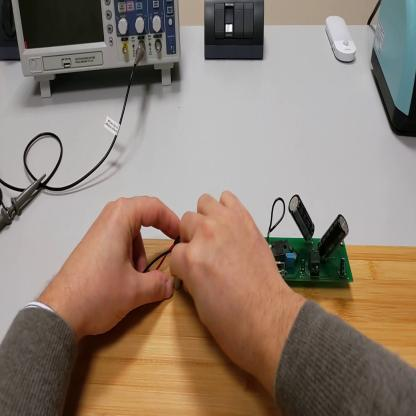hand: (172, 188, 283, 375), (65, 195, 178, 339)
high voltage board: (140, 174, 358, 288)
oscilloscope: (10, 1, 183, 97)
oscilloscope probe tip: (2, 175, 47, 235)
socket: (1, 2, 22, 61)
welder station: (372, 3, 416, 138)
working area: (65, 235, 416, 416)
